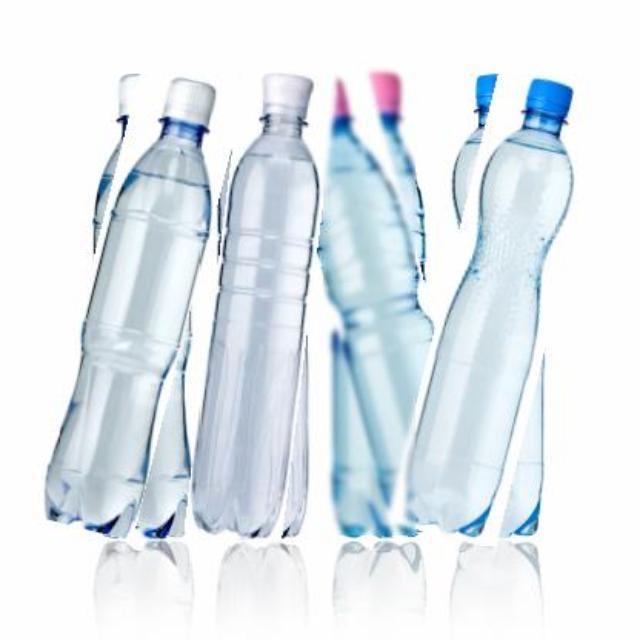Bolsa-de-nilon: (403, 79, 575, 535)
Botella de plastico: (43, 77, 215, 541), (192, 76, 318, 545)
